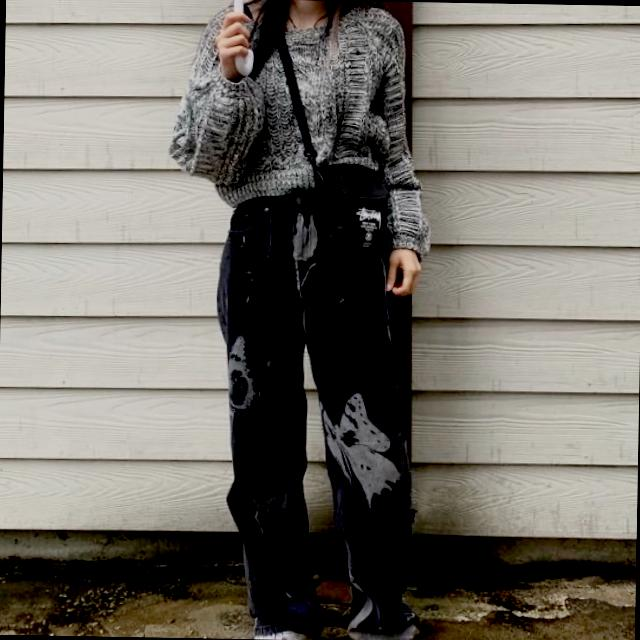denimpants: (210, 188, 422, 640)
sweater: (169, 0, 437, 258)
